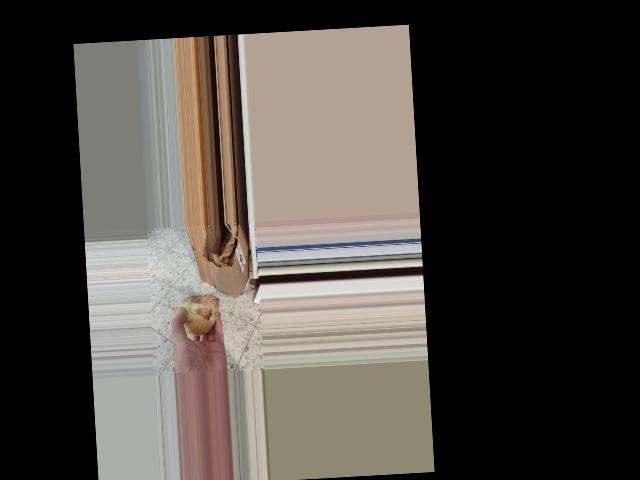onion: (173, 289, 221, 339)
